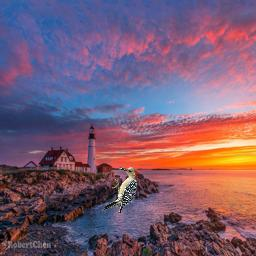Woodpecker: (100, 165, 143, 213)
